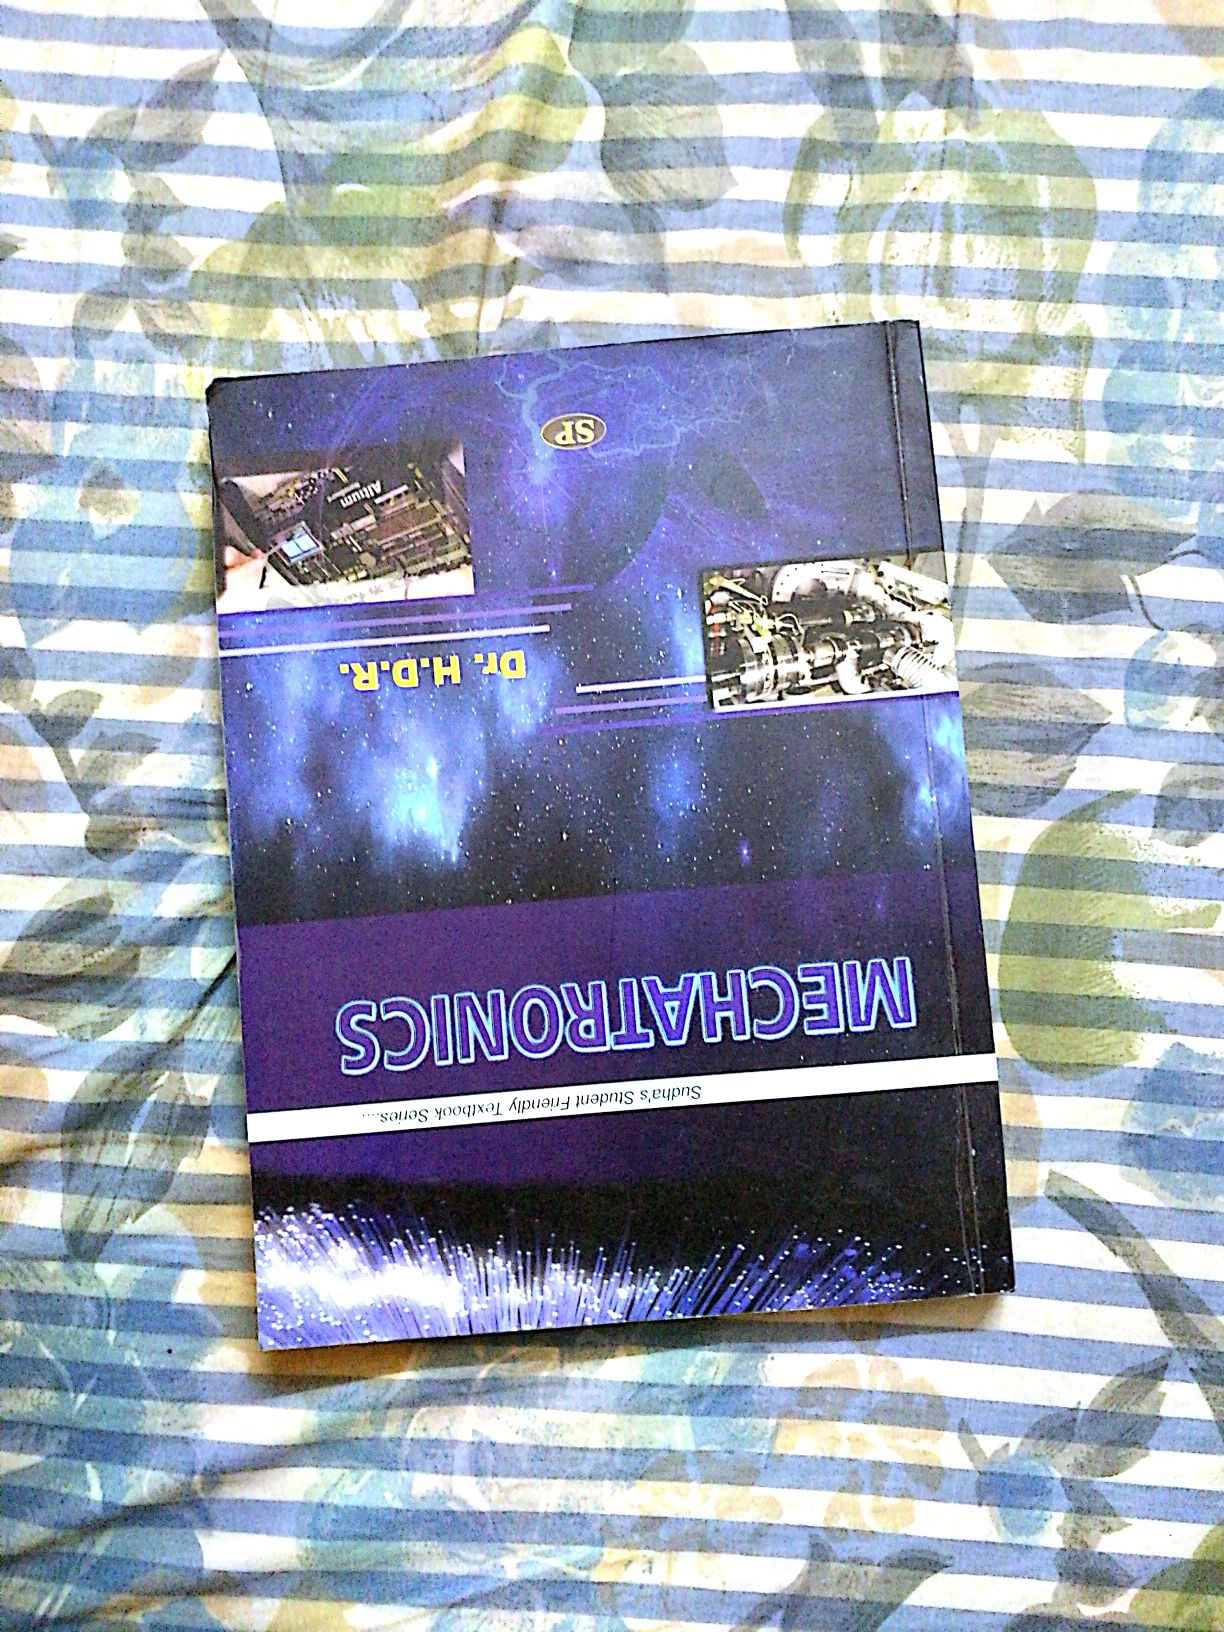mechatronics: (176, 323, 1048, 1363)
